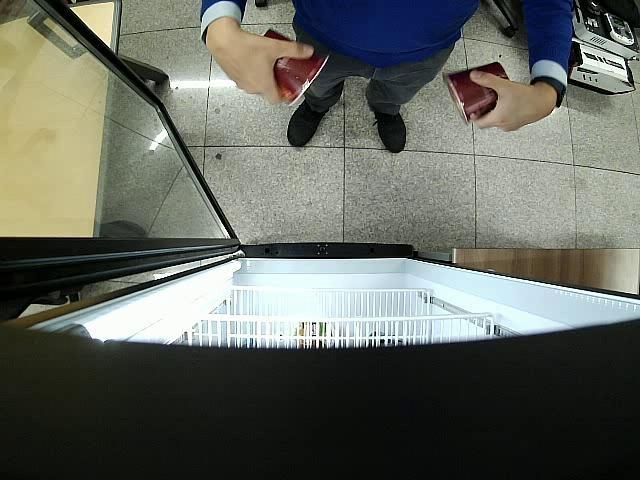06_nuguri_S: (264, 28, 330, 105), (442, 61, 512, 126)
